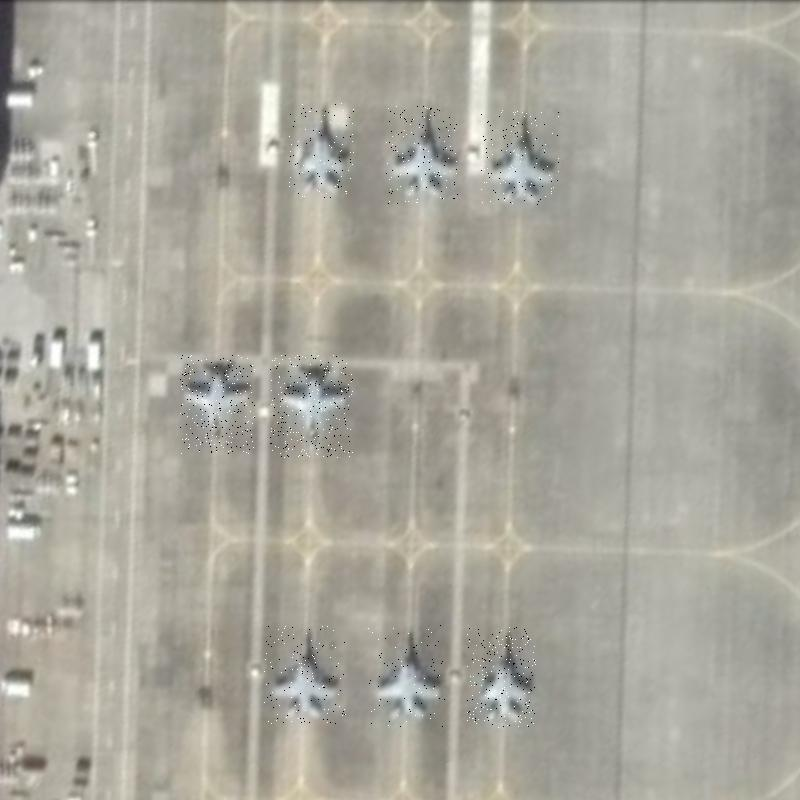A16: (270, 355, 353, 458), (264, 626, 346, 724), (368, 625, 446, 727), (180, 355, 255, 454), (481, 110, 559, 205), (386, 106, 458, 204), (467, 627, 536, 729), (289, 102, 354, 199)
